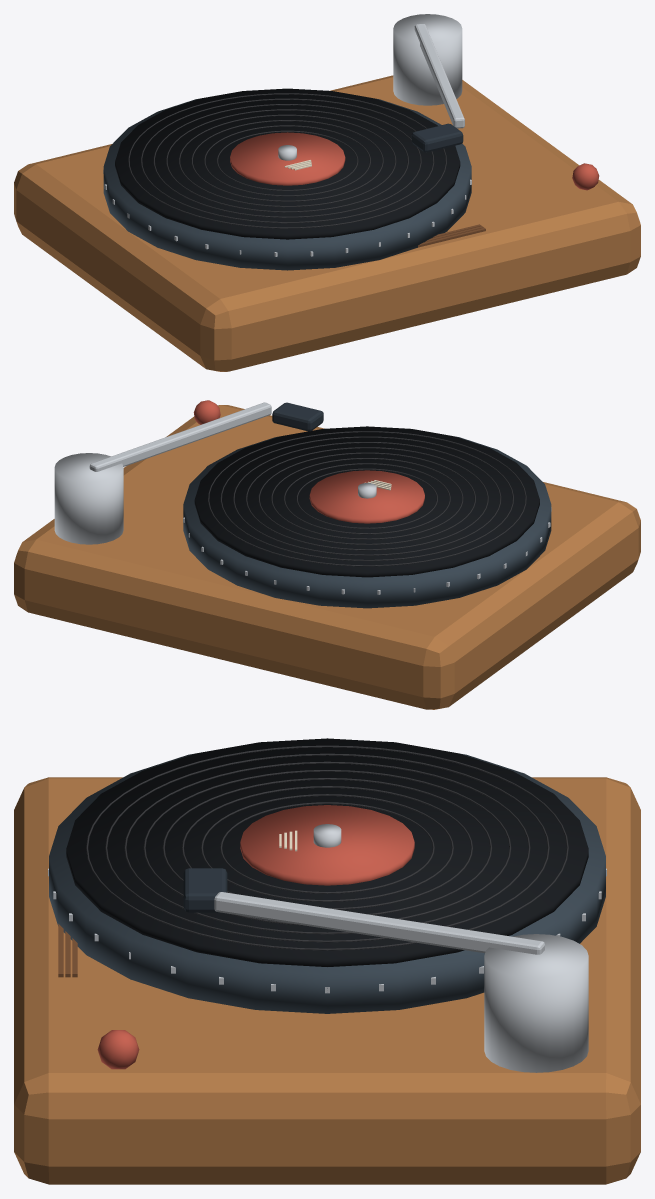
The model's file is record_player.glb.
3 renders of one model, top to bottom at view 1: azimuth 30°, elevation 25°; view 2: azimuth 150°, elevation 25°; view 3: azimuth 270°, elevation 25°, orthographic. The views are drawn at different scales.
Parts seen in each view (by area): view 1: plinth, record, platter, arm-base, label, tone-arm, groove.007, groove.006, groove.005, head-shell, groove.004, groove.003 (+4 smaller); view 2: plinth, record, platter, arm-base, label, tone-arm, groove.007, groove.006, groove.005, head-shell, groove.004, groove.003 (+4 smaller); view 3: plinth, record, platter, arm-base, label, tone-arm, groove.007, groove.006, groove.005, head-shell, groove.004, groove.003 (+4 smaller).
Boxes of the visible parts, x1,y1,x2,y2 form: plinth: (14,75,640,371); record: (115,88,460,239); platter: (103,98,471,270); arm-base: (393,14,462,105); label: (230,132,345,185); tone-arm: (414,23,464,128); groove.007: (128,93,446,228); groove.006: (141,98,434,223); groove.005: (153,104,421,217); head-shell: (411,123,463,152); groove.004: (166,109,408,212); groove.003: (179,114,396,207); plinth: (14,405,640,709); record: (194,426,539,577); platter: (183,436,551,608); arm-base: (54,453,123,544); label: (309,470,424,523); tone-arm: (89,402,271,471); groove.007: (208,431,526,566); groove.006: (220,436,513,560); groove.005: (233,442,501,555); head-shell: (272,402,323,431); groove.004: (246,447,488,550); groove.003: (258,452,475,544); plinth: (14,777,640,1184); record: (66,738,588,966); platter: (49,753,605,1013); arm-base: (484,934,588,1072); label: (240,805,414,885); tone-arm: (214,892,544,954); groove.007: (86,745,568,950); groove.006: (105,753,549,942); groove.005: (124,761,530,934); head-shell: (183,868,227,912); groove.004: (143,770,511,925); groove.003: (162,778,492,915).
Size of the model in its own units: 0.44 by 0.135 by 0.36.
